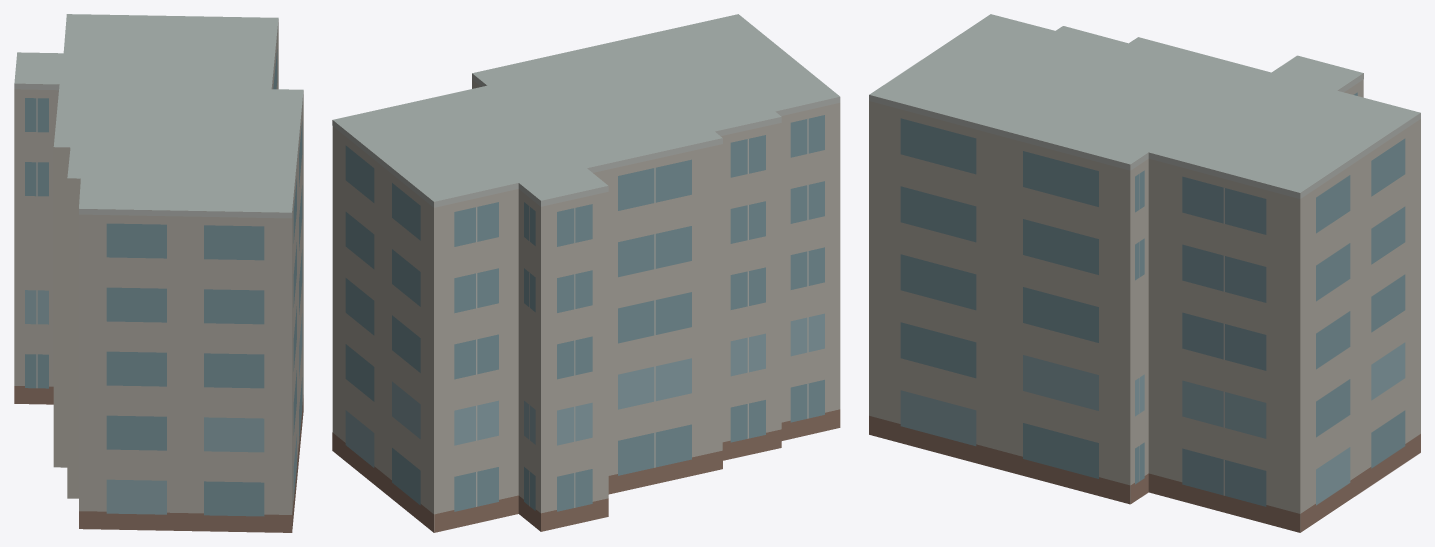
Rendered from survey-upis-32646617.glb.
The picture shows the model from 3 angles, left to right: view 1: azimuth 30°, elevation 25°; view 2: azimuth 150°, elevation 25°; view 3: azimuth 270°, elevation 25°; orthographic projection. The views are drawn at different scales.
Visible parts, largest first — view 1: survey-upis-32646617.tmp; view 2: survey-upis-32646617.tmp; view 3: survey-upis-32646617.tmp.
Boxes of the visible parts, box(x1,y1,x2,y2) form: survey-upis-32646617.tmp: box(14, 14, 303, 532); survey-upis-32646617.tmp: box(332, 14, 840, 532); survey-upis-32646617.tmp: box(869, 14, 1420, 532).
Size of the model in its own units: 15.25 by 13.5 by 19.87.
